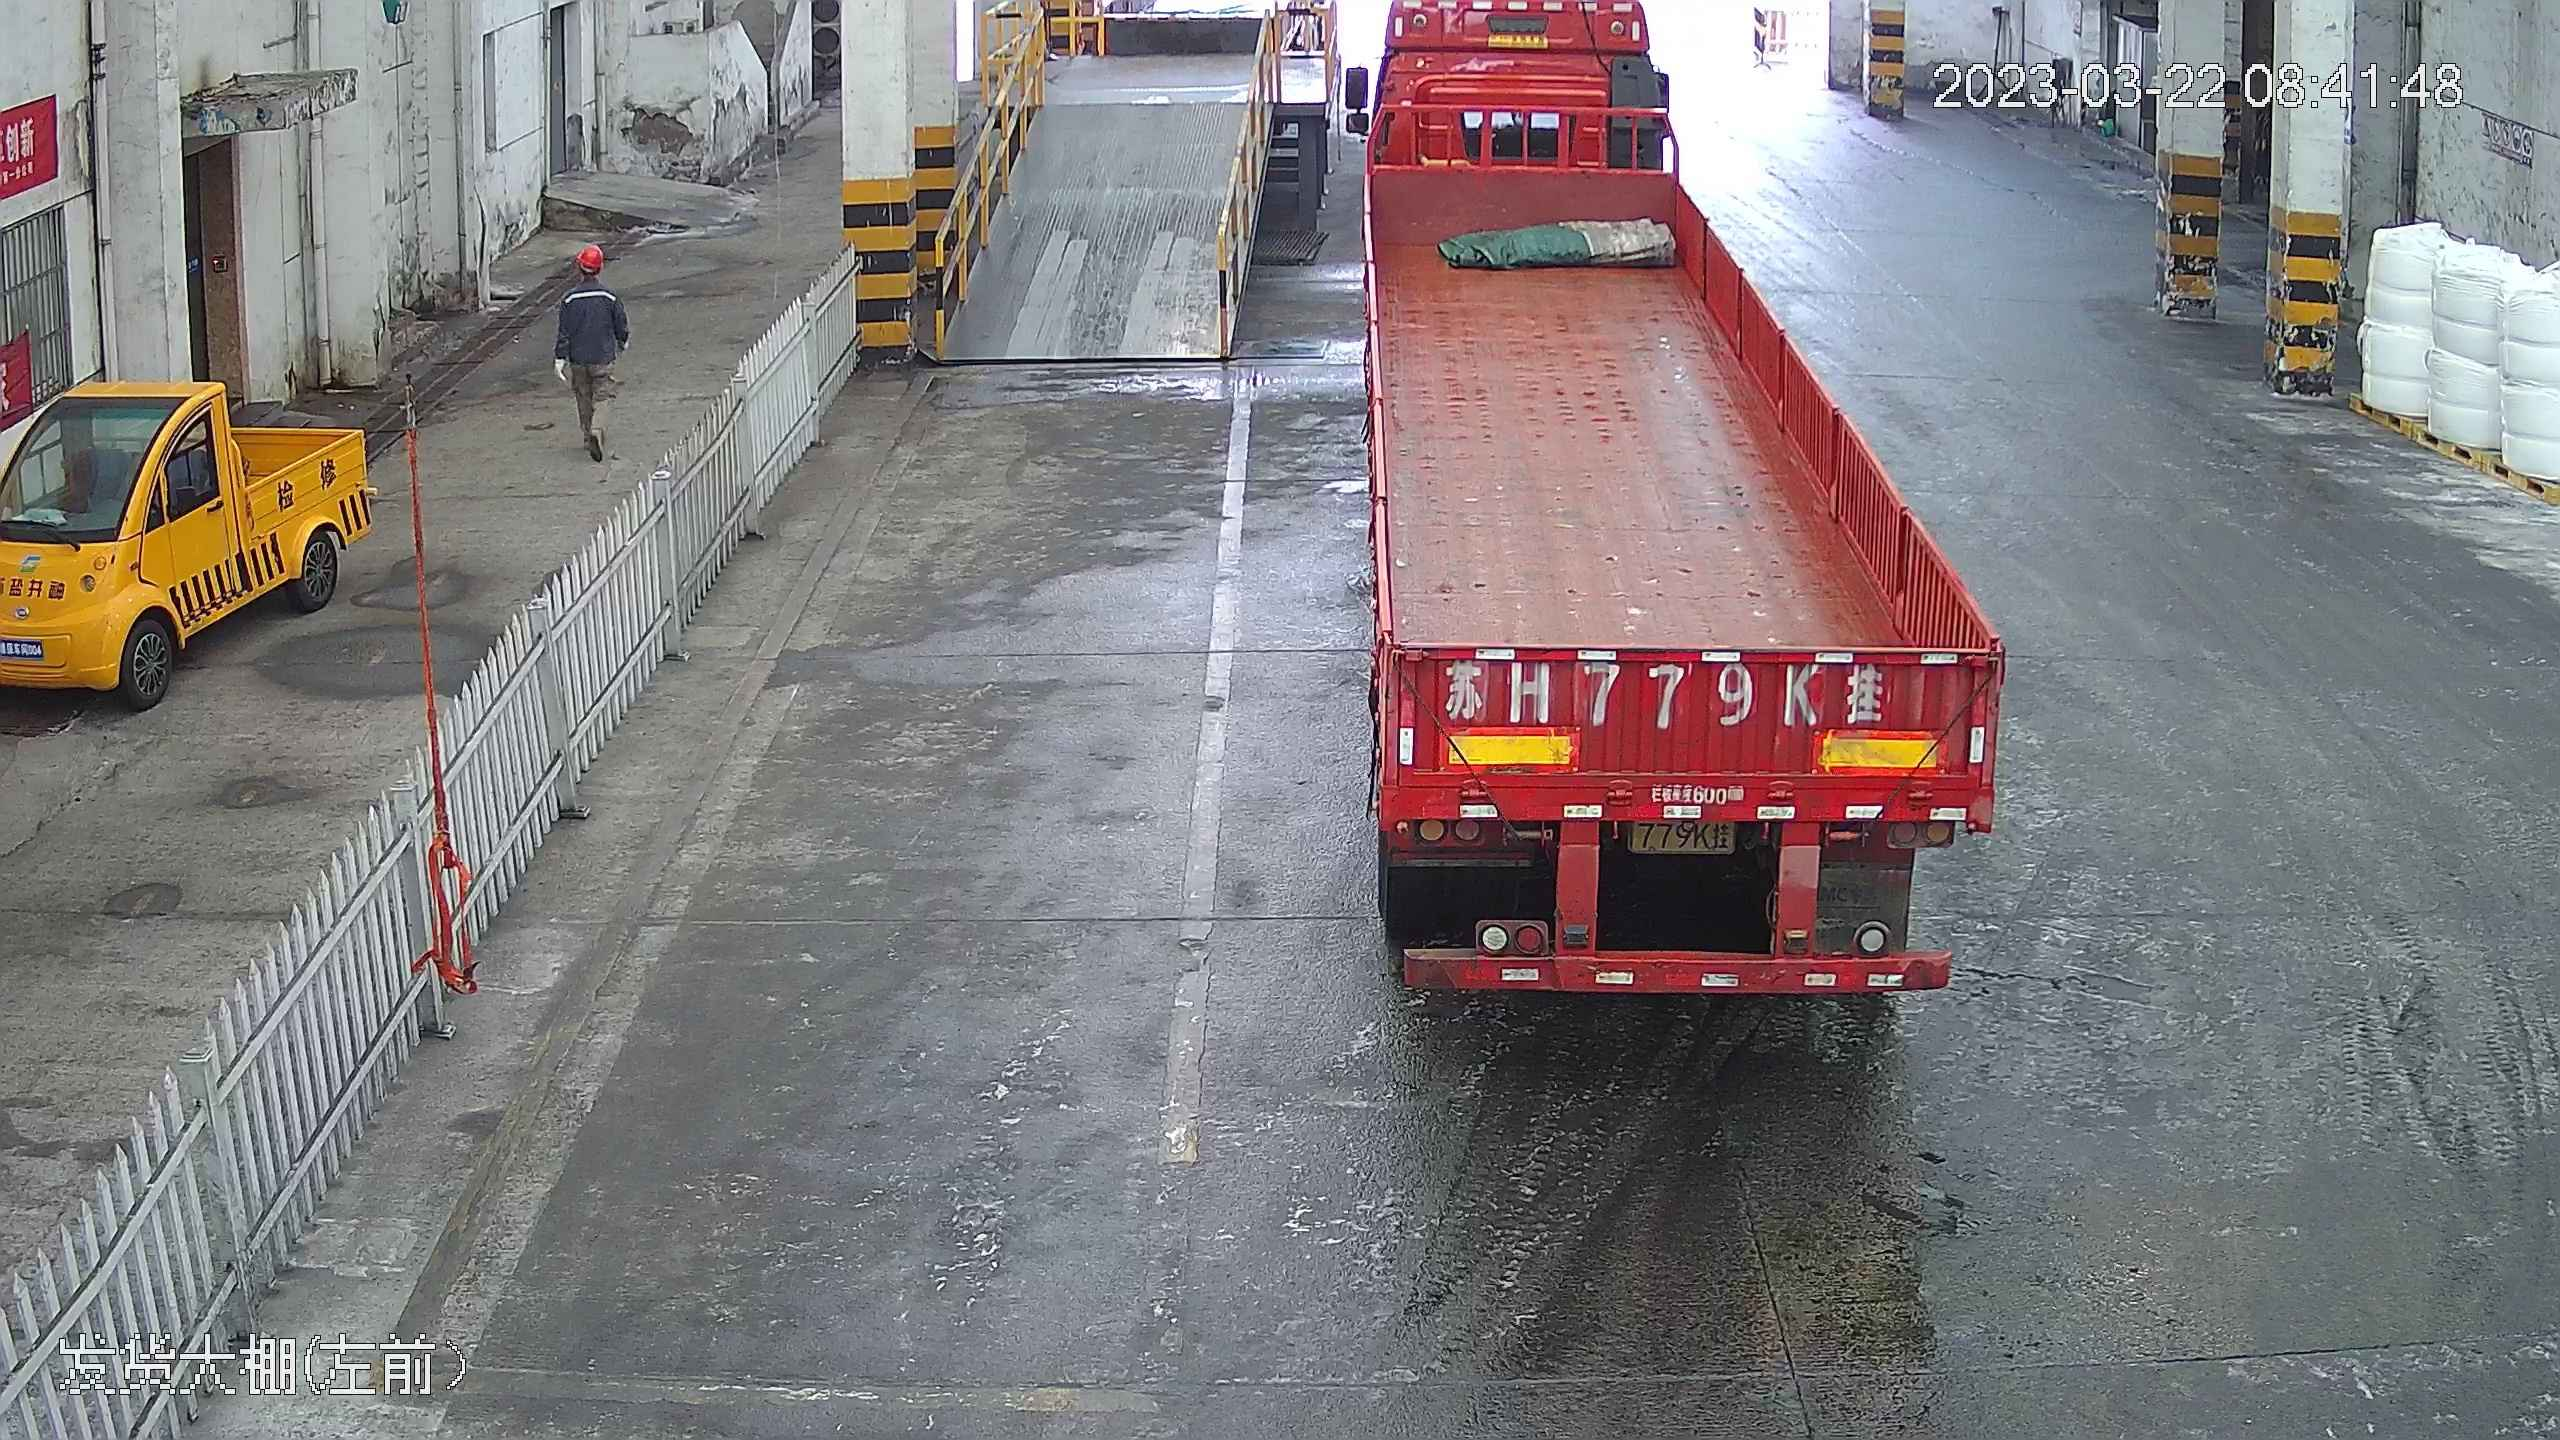head: (558, 242, 619, 309)
helmet: (572, 242, 605, 267)
people: (549, 237, 629, 466)
truck: (1341, 1, 2039, 1003)
